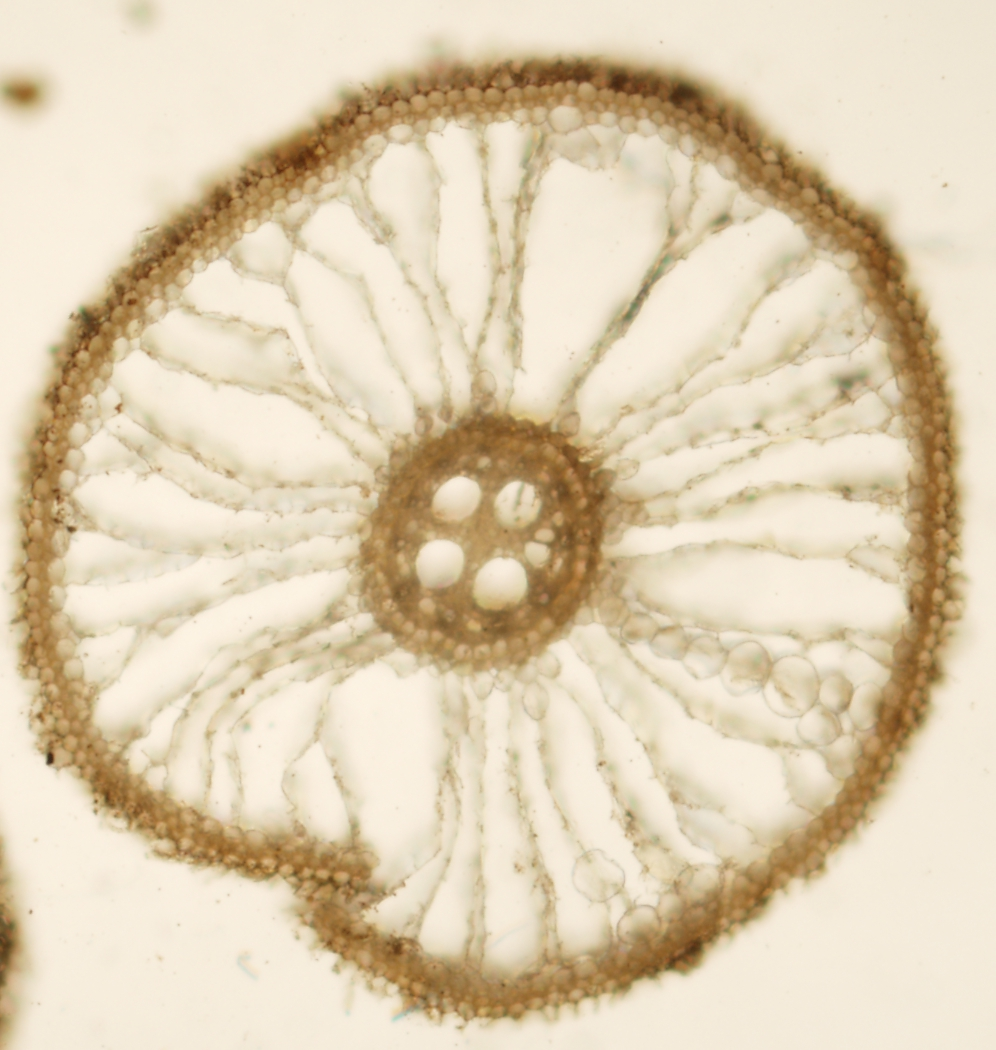lm: (472, 557, 528, 611), (415, 539, 464, 589), (493, 480, 542, 530), (431, 476, 481, 524), (524, 528, 555, 568)
